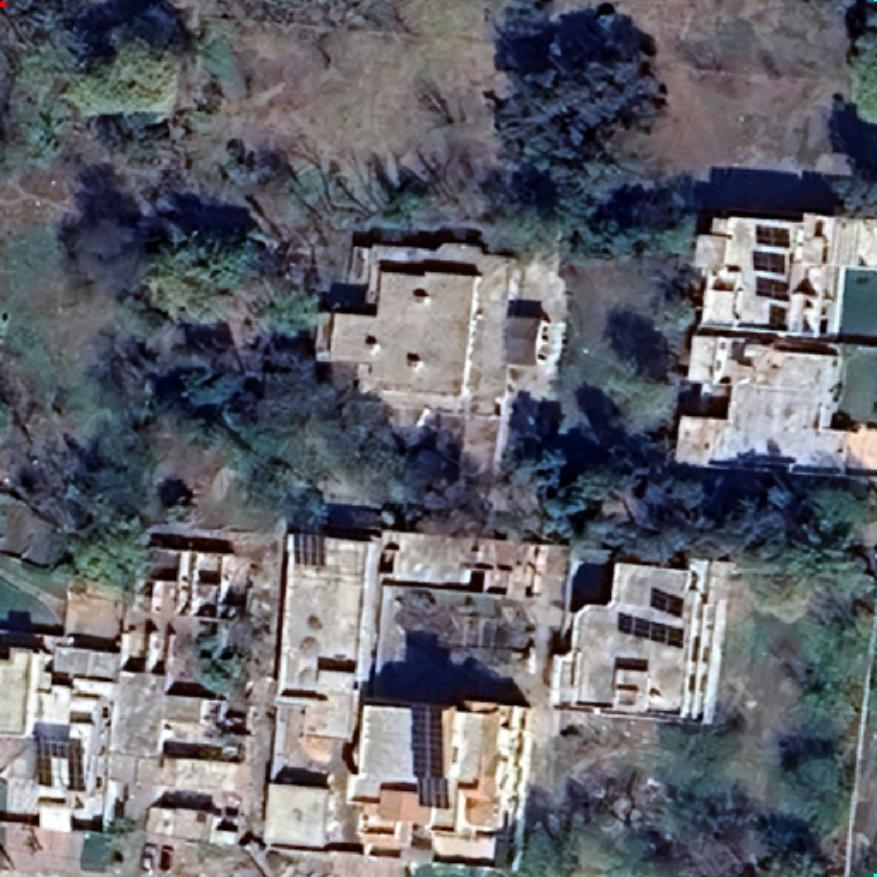Solarpanel: (406, 697, 454, 813), (31, 730, 90, 796), (611, 605, 689, 652), (643, 580, 689, 622), (751, 220, 795, 250), (748, 247, 792, 277), (751, 274, 793, 304)
